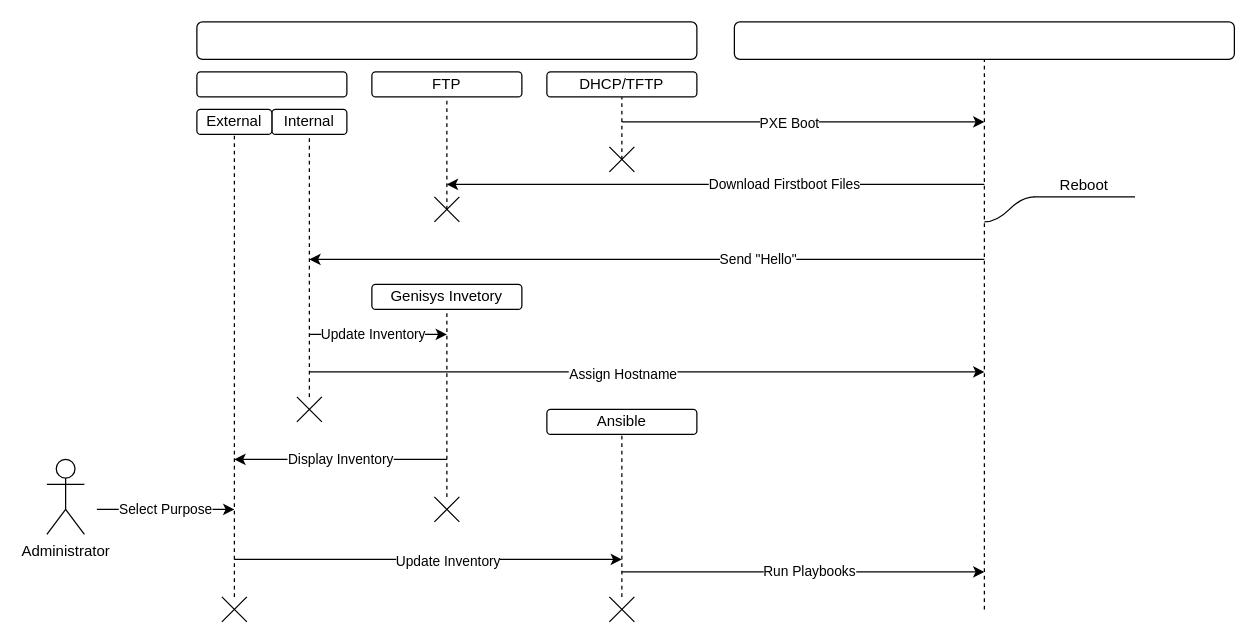
Image size: 1256x644. Some labels were removed from this diagram. The centre of each missing label's shape, as x and y in pixels:
Client: pixel 983 40
Genisys Server: pixel 446 40
HTTPd: pixel 271 84
